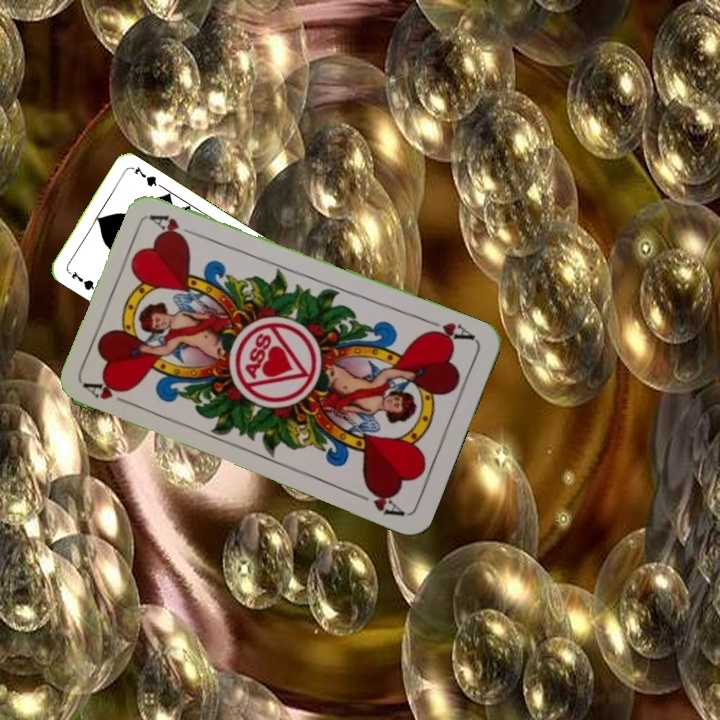G7: (63, 266, 99, 293)
HA: (81, 377, 138, 410), (420, 314, 477, 346)
